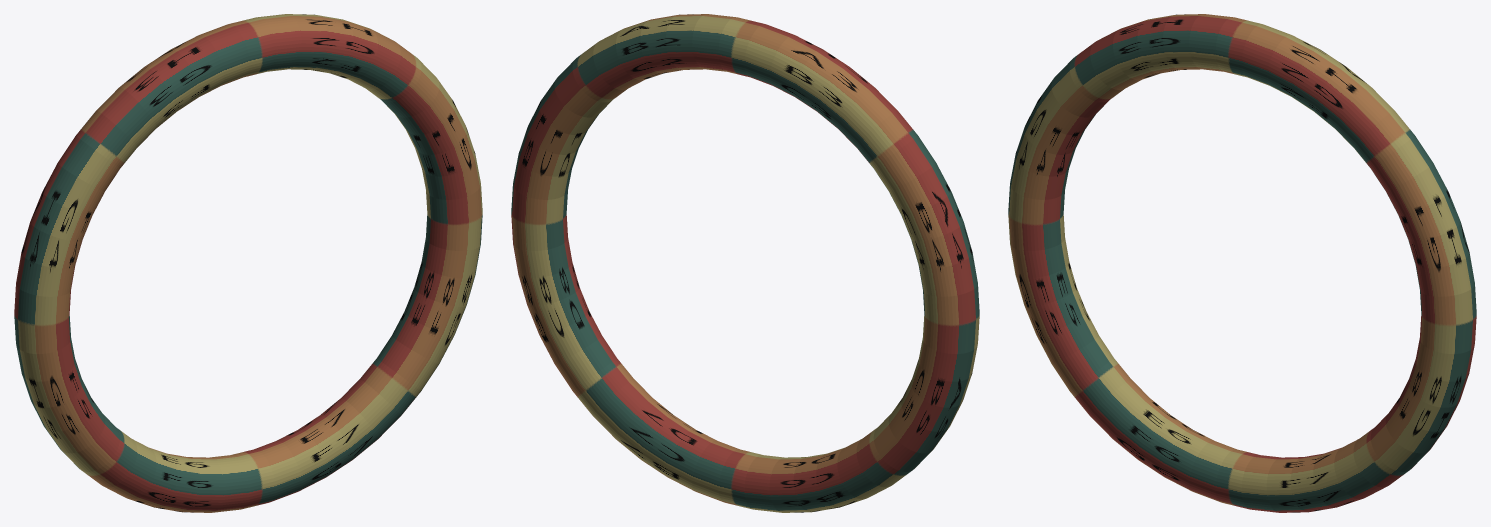
Rendered from texture_torus_R28_r5.glb.
The picture shows the model from 3 angles, left to right: view 1: azimuth 30°, elevation 25°; view 2: azimuth 150°, elevation 25°; view 3: azimuth 330°, elevation 25°; orthographic projection.
Parts seen in each view (by area): view 1: world; view 2: world; view 3: world.
Part boxes in pixels (box(x1,y1,x2,y2)): world: box(14, 14, 482, 512); world: box(511, 14, 979, 512); world: box(1008, 14, 1476, 512).
Size of the model in its own units: 32 by 31.94 by 3.33.
1 material, 1 textured.
